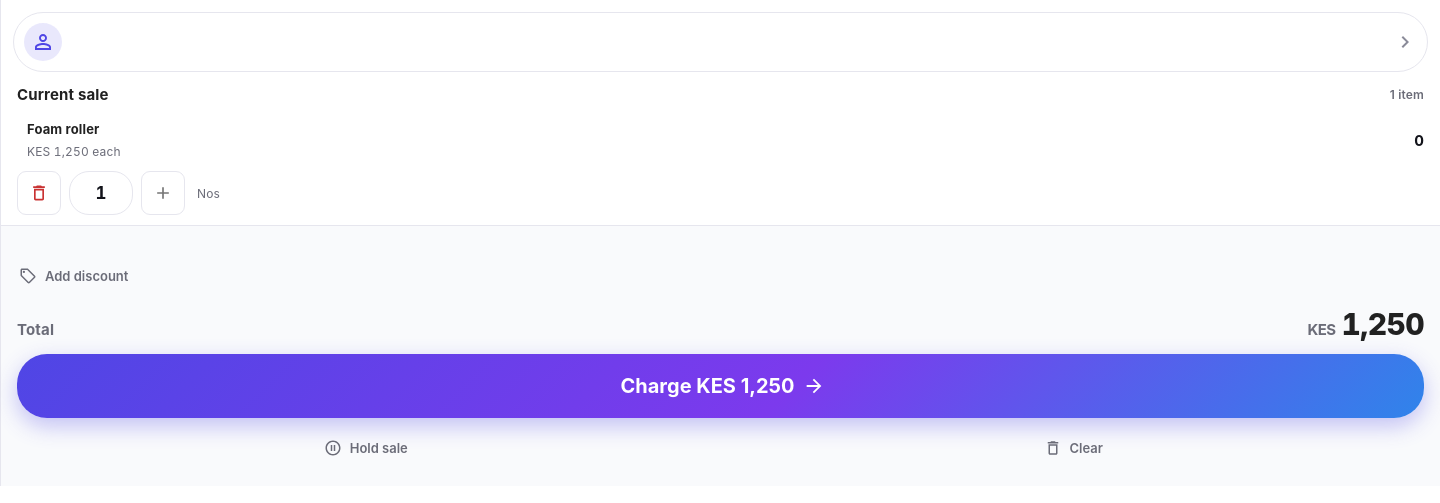
the sale in progress › old look: unchanged
Expected: the text "Nos" is shown, [197,185,220,202]
Expected: the heading "KES1,250" is shown, [1308,306,1424,342]
Click the button "Add discount".
click(75, 276)  # box [9,254,140,298]
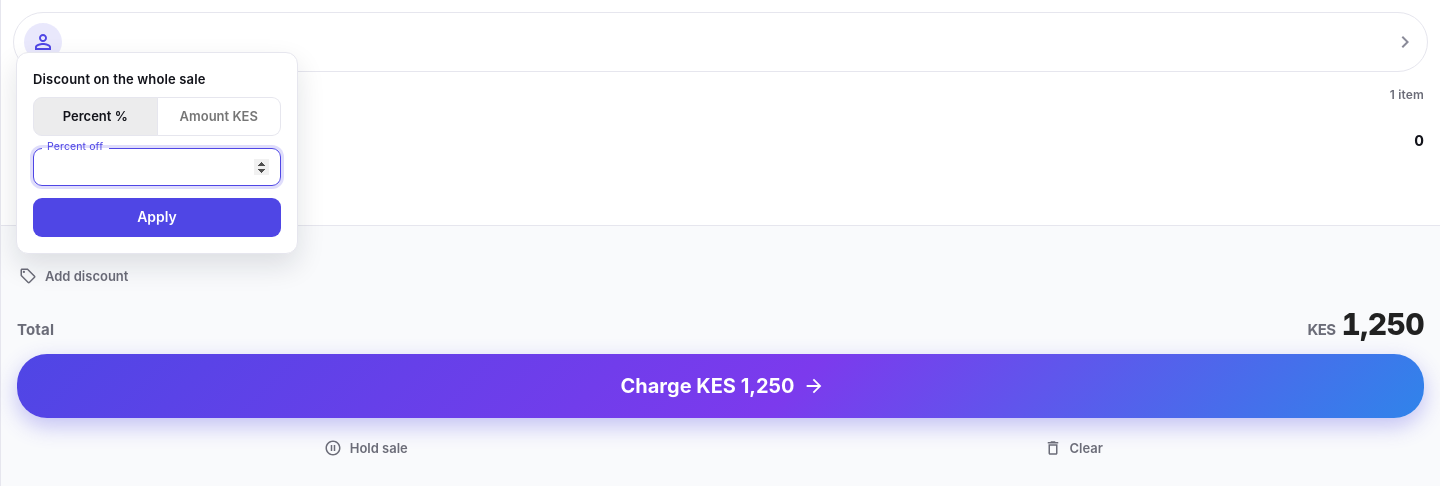
Expected: the button "Apply" is shown, [33,198,281,237]
